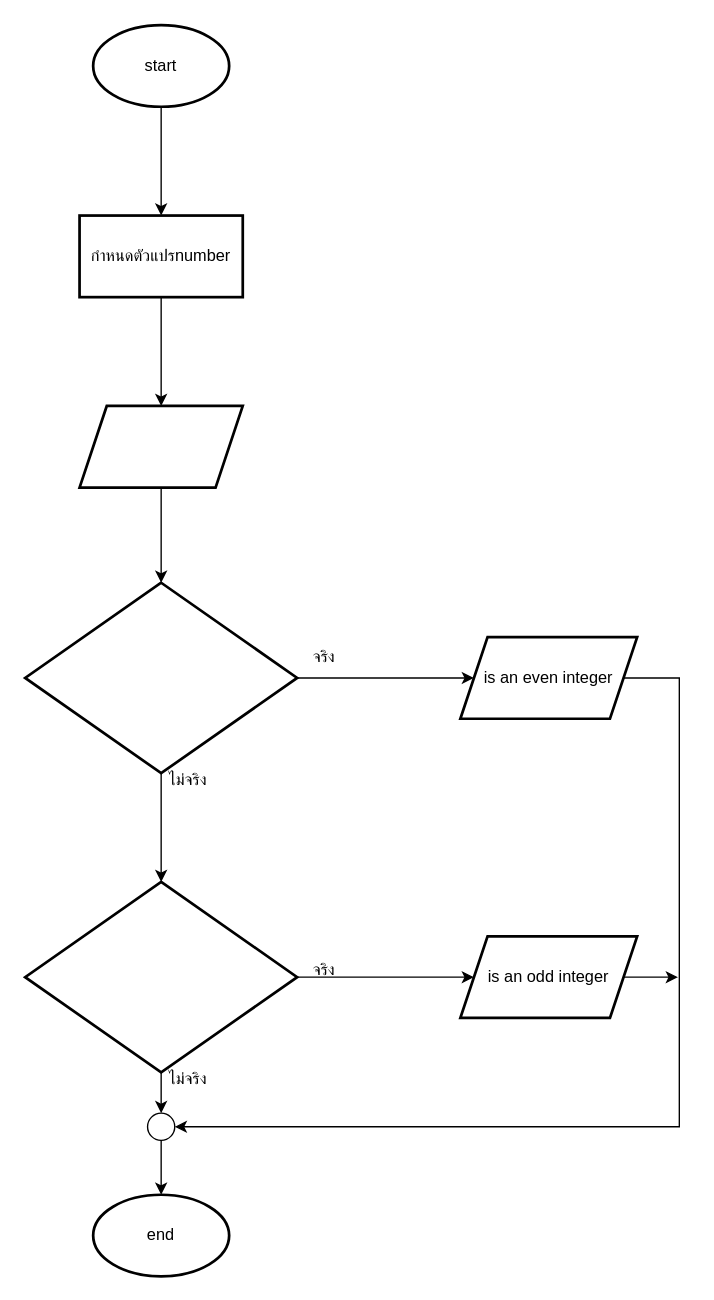
Some shapes in this 714 by 1300 pixel diagram are drawn without their labels. Each missing label, with the centre of its shape:
"ถ้าตัวเลขที่รับหาร2ได้เศษ0" goes at pixel 160 677.
"ถ้าไม่ได้เศษ0" goes at pixel 160 976.
"รับค่าตัวเลข" goes at pixel 160 446.
